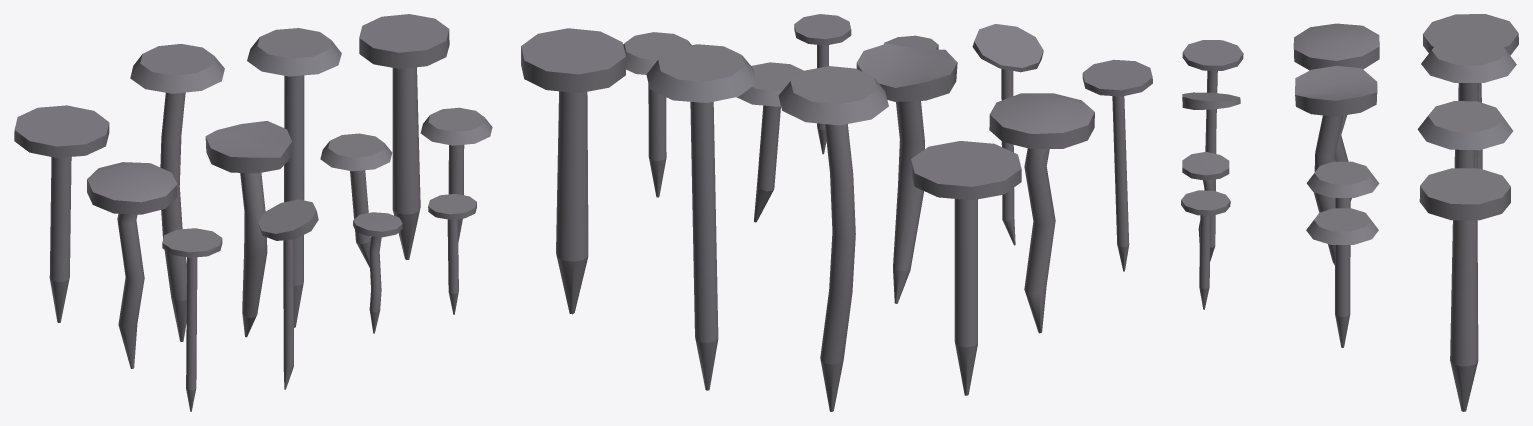
Rendered from Nails.fbx.
The picture shows the model from 3 angles, left to right: view 1: azimuth 30°, elevation 25°; view 2: azimuth 150°, elevation 25°; view 3: azimuth 270°, elevation 25°; orthographic projection. The views are drawn at different scales.
Visible parts, largest first — view 1: Nails; view 2: Nails; view 3: Nails.
Boxes of the visible parts, box(x1,y1,x2,y2) form: Nails: box(14, 14, 492, 411); Nails: box(521, 14, 1152, 411); Nails: box(1181, 14, 1518, 411).
Size of the model in its own units: 24.15 by 17.08 by 16.15.
